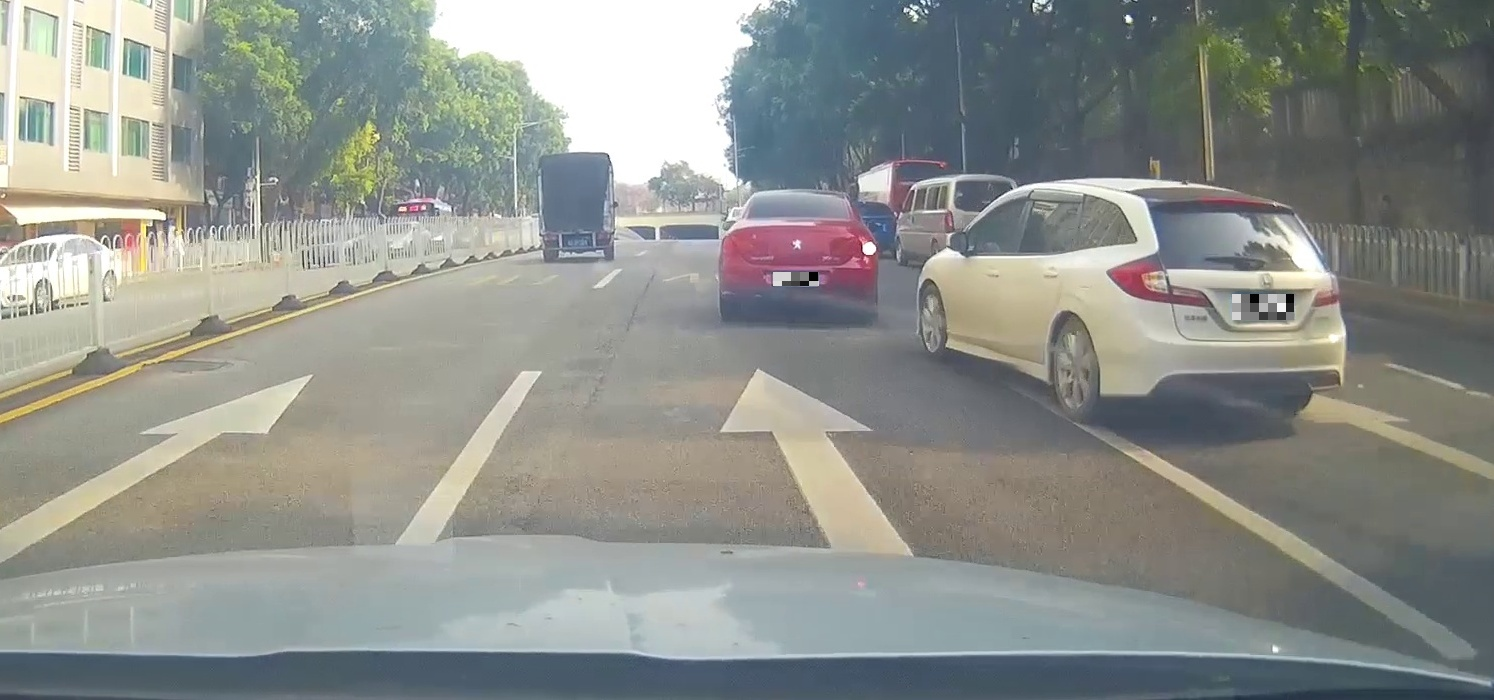L_light: (1106, 252, 1213, 307), (722, 242, 737, 257), (545, 235, 556, 240)
R_light: (1311, 273, 1339, 306), (861, 241, 876, 255), (597, 233, 609, 238)
T_light: (1200, 197, 1265, 206), (792, 194, 812, 198), (569, 158, 580, 161)
day-no: (1104, 195, 1346, 429), (538, 152, 614, 262)
day-right: (718, 189, 878, 323)
plate_1: (773, 272, 819, 286)
plate_2: (1232, 294, 1294, 320)
